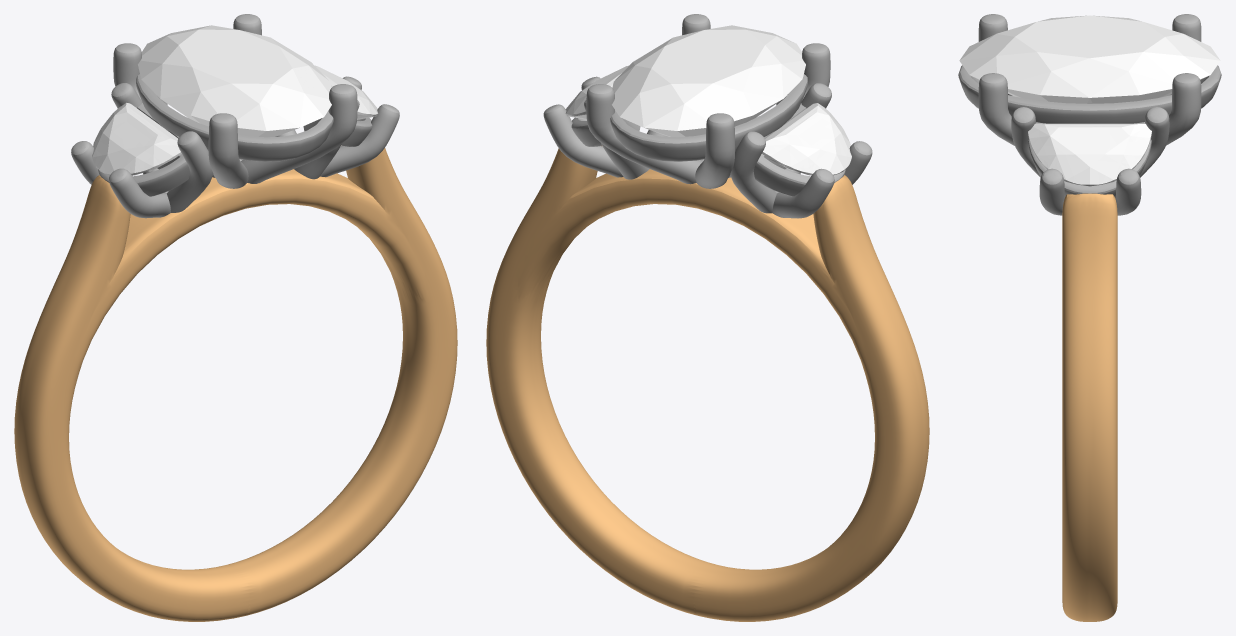
3 views of the same model, side by side, from view 1: azimuth 30°, elevation 25°; view 2: azimuth 150°, elevation 25°; view 3: azimuth 270°, elevation 25° (orthographic).
Visible parts, largest first — view 1: object 18, PART0001 (×12); view 2: object 18, PART0001 (×13); view 3: PART0001 (×12), object 18.
Boxes of the visible parts, box(x1,y1,x2,y2) form: object 18: box(14, 148, 457, 621); PART0001 (×12): box(71, 25, 399, 218); object 18: box(486, 148, 929, 621); PART0001 (×13): box(543, 25, 872, 218); PART0001 (×12): box(958, 14, 1221, 215); object 18: box(1062, 193, 1117, 621).
Size of the model in its own units: 2.39 by 2.95 by 1.25.
